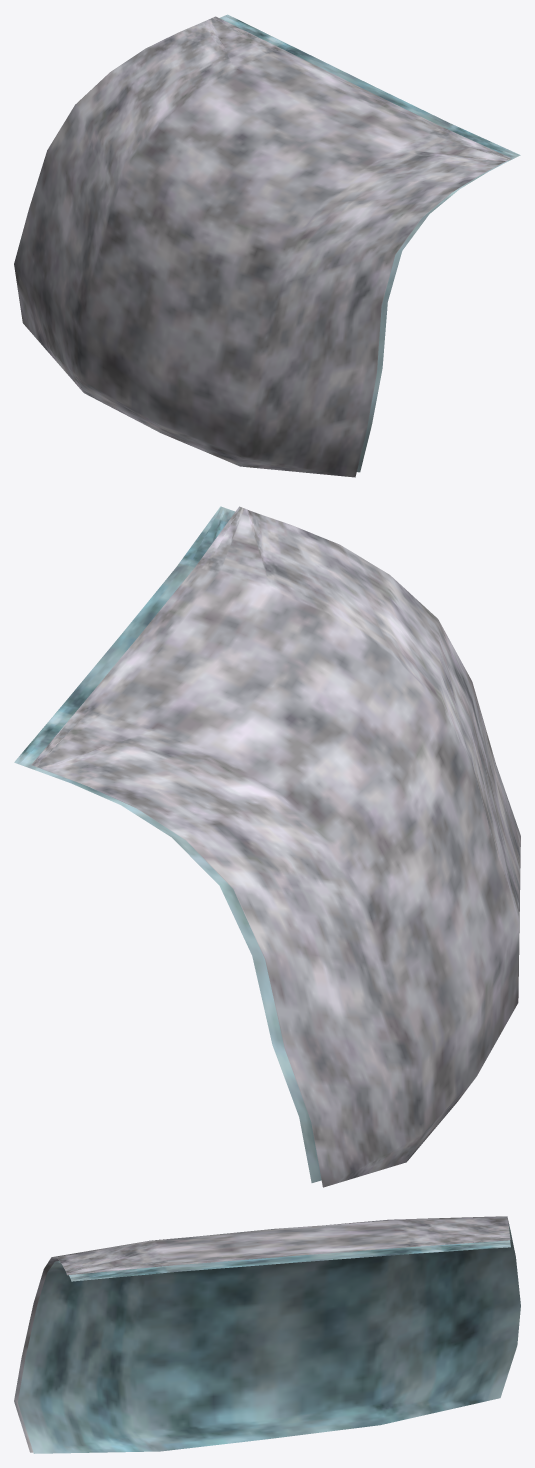
The model's file is CB_NEWPLAYSURFACE_CB_WATERFALLS11.fbx.
3 renders of one model, top to bottom at view 1: azimuth 30°, elevation 25°; view 2: azimuth 150°, elevation 25°; view 3: azimuth 270°, elevation 25°, orthographic. The views are drawn at different scales.
Parts seen in each view (by area): view 1: CB_NEWPLAYSURFACE_CB_WATERFALLS11; view 2: CB_NEWPLAYSURFACE_CB_WATERFALLS11; view 3: CB_NEWPLAYSURFACE_CB_WATERFALLS11.
Part boxes in pixels (x1,y1,x2,y2): CB_NEWPLAYSURFACE_CB_WATERFALLS11: (14,14,520,477); CB_NEWPLAYSURFACE_CB_WATERFALLS11: (14,506,520,1187); CB_NEWPLAYSURFACE_CB_WATERFALLS11: (14,1216,520,1453).
Bounding box in the file's own units: 58302 × 54747 × 87961.
2 materials, 2 textured.
